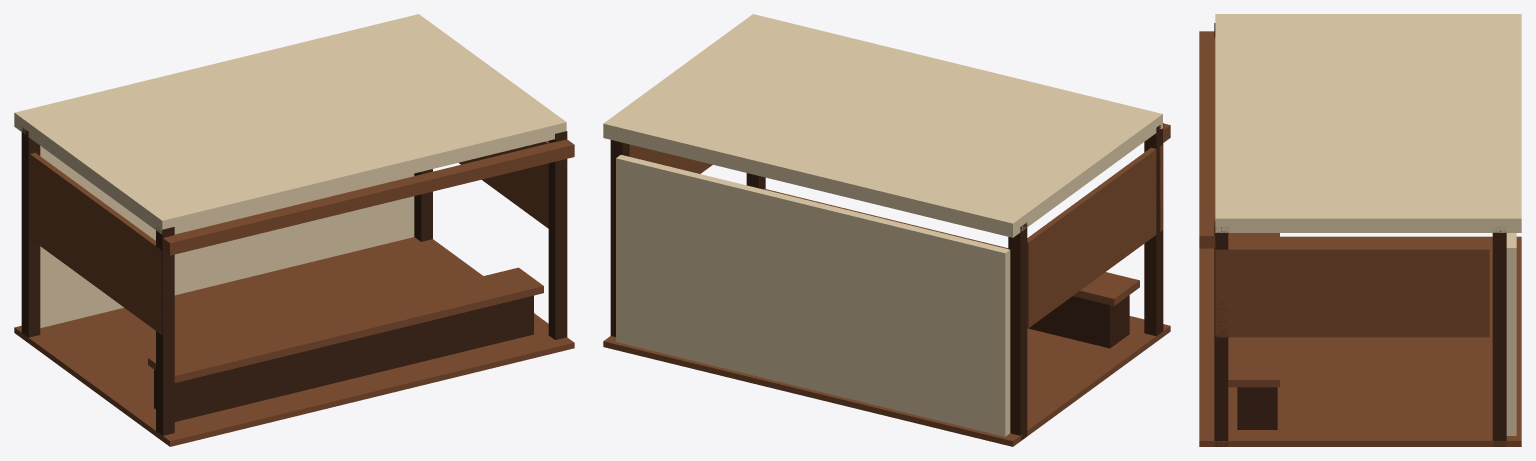
The model's file is STALL_BAY_12X8.obj.
The picture shows the model from 3 angles, left to right: view 1: azimuth 30°, elevation 25°; view 2: azimuth 150°, elevation 25°; view 3: azimuth 270°, elevation 25°; orthographic projection. The views are drawn at different scales.
Visible parts, largest first — view 1: STALL_BAY_12X8; view 2: STALL_BAY_12X8; view 3: STALL_BAY_12X8.
Boxes of the visible parts, box(x1,y1,x2,y2) form: STALL_BAY_12X8: box(14, 14, 574, 446); STALL_BAY_12X8: box(603, 14, 1170, 446); STALL_BAY_12X8: box(1199, 14, 1521, 446).
Size of the model in its own units: 12 by 6.25 by 8.
